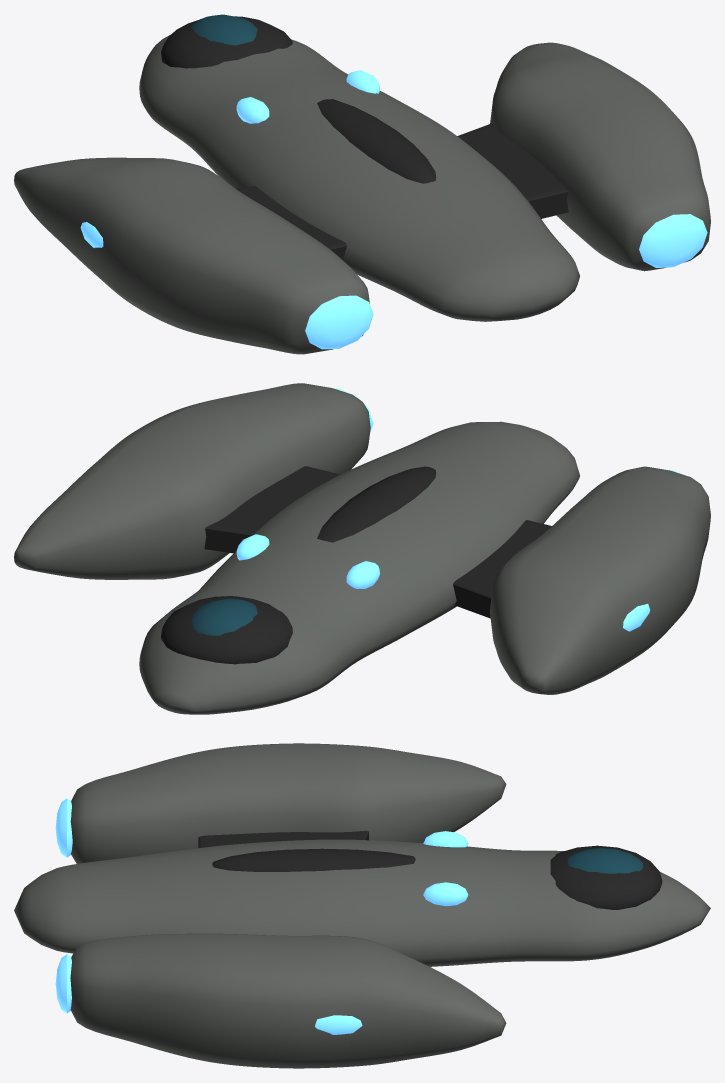
Rendered from gencore2.glb.
3 views of the same model, one above another, from view 1: azimuth 30°, elevation 25°; view 2: azimuth 150°, elevation 25°; view 3: azimuth 270°, elevation 25° (orthographic). The views are drawn at different scales.
Parts seen in each view (by area): view 1: fuselage, nacelle_left, nacelle_right, spine, wing_right, canopy_ring, nozzle, nozzle_right, canopy, wing_left, light_neck, light_neck_right; view 2: fuselage, nacelle_right, nacelle_left, canopy_ring, wing_right, spine, wing_left, canopy, light_neck, light_neck_right; view 3: fuselage, nacelle_right, nacelle_left, canopy_ring, spine, wing_left, canopy, light_neck_right, nozzle, nozzle_right, light_side_right, light_neck.
Part boxes in pixels (x1=…): fuselage: x1=139, y1=34, x2=579, y2=321; nacelle_left: x1=14, y1=157, x2=369, y2=354; nacelle_right: x1=490, y1=42, x2=710, y2=271; spine: x1=317, y1=99, x2=436, y2=183; wing_right: x1=457, y1=123, x2=568, y2=218; canopy_ring: x1=161, y1=16, x2=292, y2=68; nozzle: x1=305, y1=295, x2=373, y2=349; nozzle_right: x1=639, y1=214, x2=707, y2=267; canopy: x1=191, y1=14, x2=257, y2=45; wing_left: x1=235, y1=186, x2=346, y2=259; light_neck: x1=236, y1=97, x2=269, y2=123; light_neck_right: x1=346, y1=70, x2=379, y2=93; fuselage: x1=139, y1=421, x2=579, y2=714; nacelle_right: x1=14, y1=383, x2=370, y2=579; nacelle_left: x1=490, y1=466, x2=710, y2=694; canopy_ring: x1=161, y1=596, x2=292, y2=664; wing_right: x1=204, y1=466, x2=340, y2=553; spine: x1=317, y1=466, x2=435, y2=542; wing_left: x1=453, y1=520, x2=551, y2=618; canopy: x1=191, y1=598, x2=257, y2=635; light_neck: x1=346, y1=561, x2=379, y2=588; light_neck_right: x1=236, y1=534, x2=269, y2=560; fuselage: x1=14, y1=839, x2=710, y2=966; nacelle_right: x1=70, y1=933, x2=506, y2=1068; nacelle_left: x1=70, y1=743, x2=506, y2=863; canopy_ring: x1=550, y1=845, x2=662, y2=909; spine: x1=212, y1=848, x2=415, y2=871; wing_left: x1=198, y1=830, x2=368, y2=848; canopy: x1=567, y1=848, x2=643, y2=873; light_neck_right: x1=423, y1=882, x2=468, y2=906; nozzle: x1=55, y1=798, x2=72, y2=857; nozzle_right: x1=55, y1=954, x2=71, y2=1013; light_side_right: x1=315, y1=1015, x2=362, y2=1034; light_neck: x1=423, y1=831, x2=468, y2=847.
Size of the model in its own units: 24.1 by 4.55 by 27.6.
